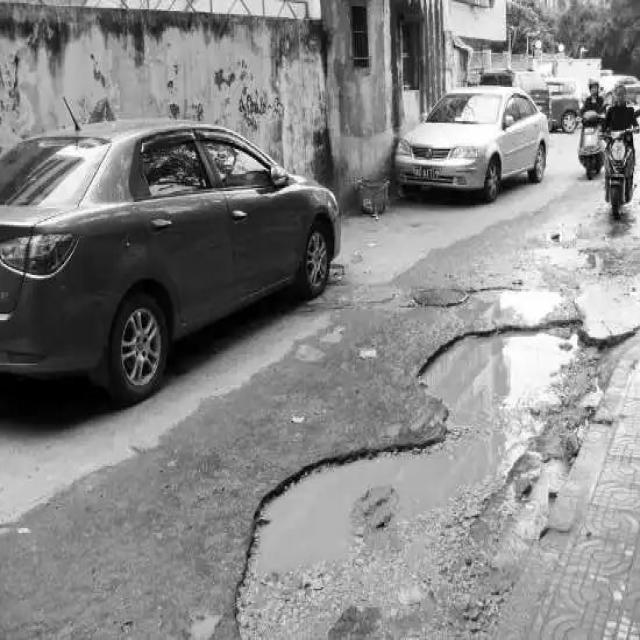Pothole: (246, 311, 616, 638)
